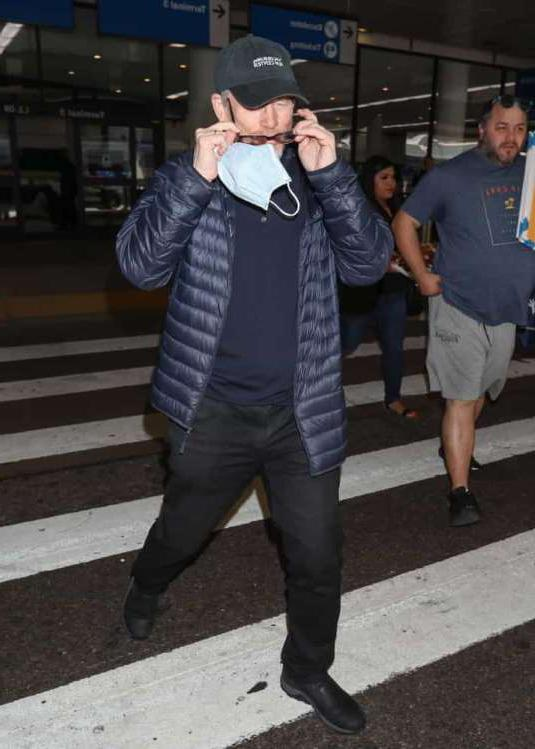mask_weared_incorrect: (224, 102, 292, 168)
without_mask: (485, 111, 525, 163), (375, 170, 399, 200)
